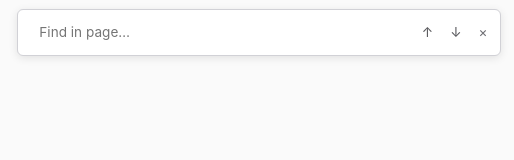
Test: FindBar › says there are no matches rather than showing 0 of 0
This screenshot has width=514, height=160.
In the field labelled "Find in page": (163, 32) [27,14,299,51], type "zzz"
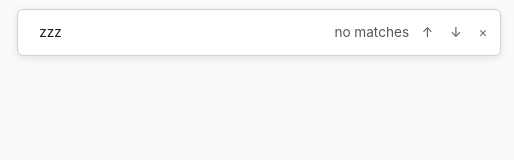
Check: the text "no matches" is shown, box [334,24,409,40]
